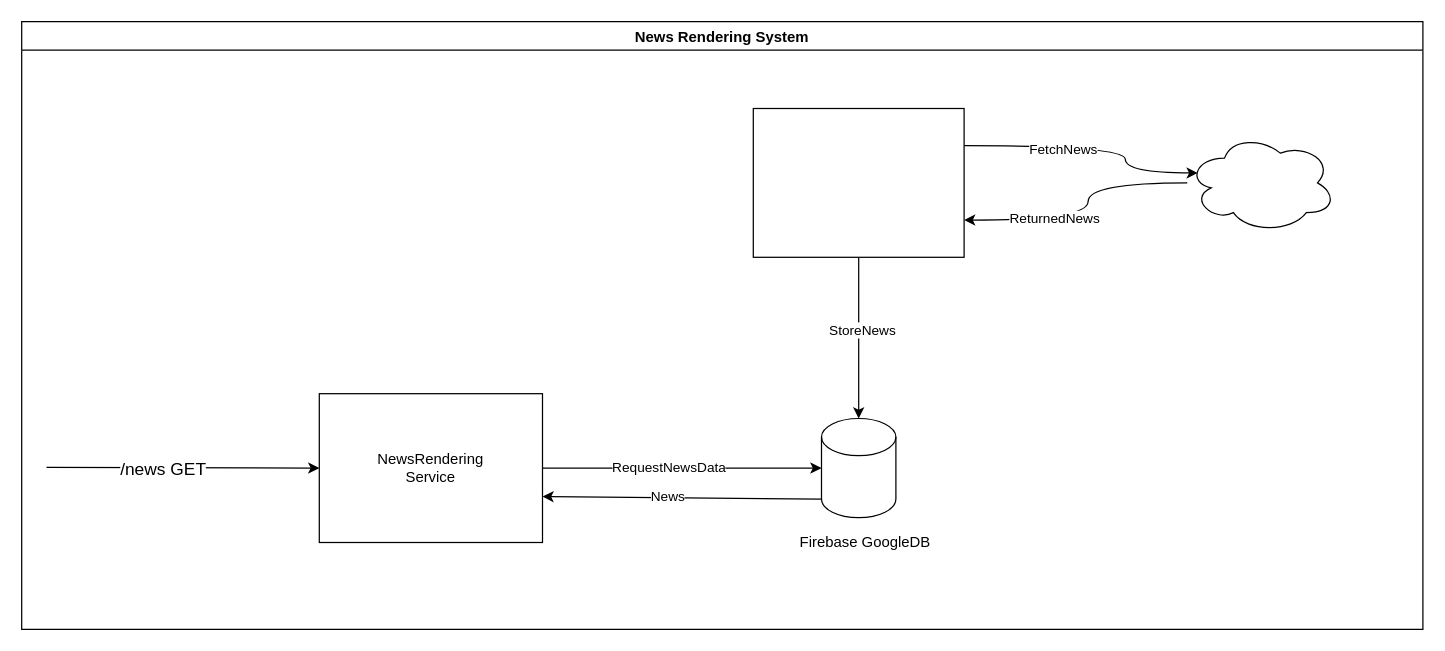
Some shapes in this 1445 by 651 pixel diagram are drawn without their labels. Each missing label, with the box of its shape:
Internet: (1186, 132, 1336, 232)
NewsExtractor: (752, 107, 964, 257)
